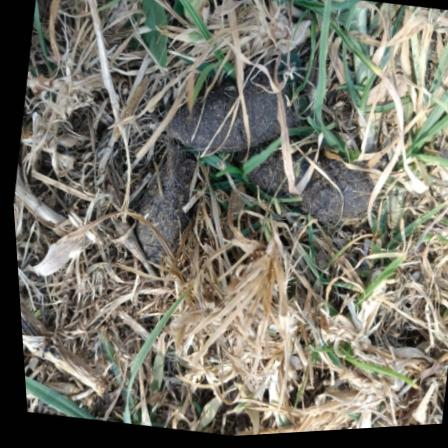dog-poop: (104, 16, 444, 334)
